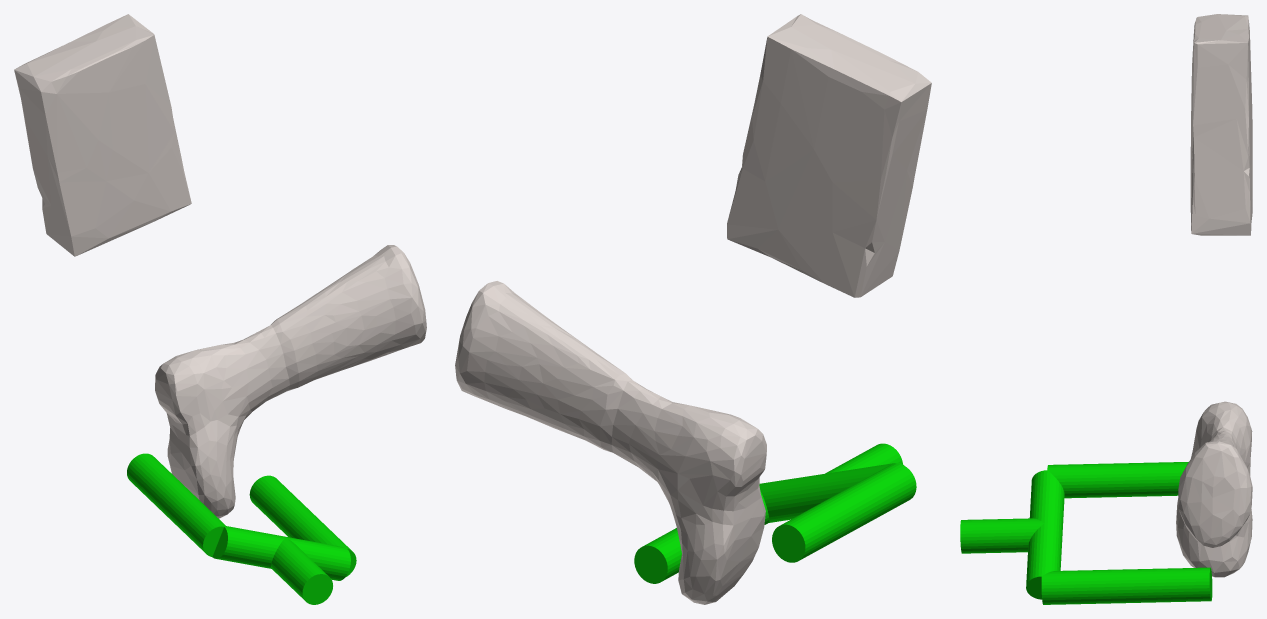
Rendered from round_000_trial_004.obj.
3 views of the same model, side by side, from view 1: azimuth 30°, elevation 25°; view 2: azimuth 150°, elevation 25°; view 3: azimuth 270°, elevation 25° (orthographic). The views are drawn at different scales.
Parts seen in each view (by area): view 1: geometry_0, geometry_1; view 2: geometry_0, geometry_1; view 3: geometry_0, geometry_1.
Part boxes in pixels (box(x1,y1,x2,y2)): geometry_0: box(14, 14, 426, 518); geometry_1: box(127, 453, 356, 604); geometry_0: box(455, 14, 931, 604); geometry_1: box(634, 443, 916, 583); geometry_0: box(1176, 14, 1252, 577); geometry_1: box(960, 462, 1212, 604).
Bounding box in the file's own units: 0.1309 × 0.1662 × 0.0867.
